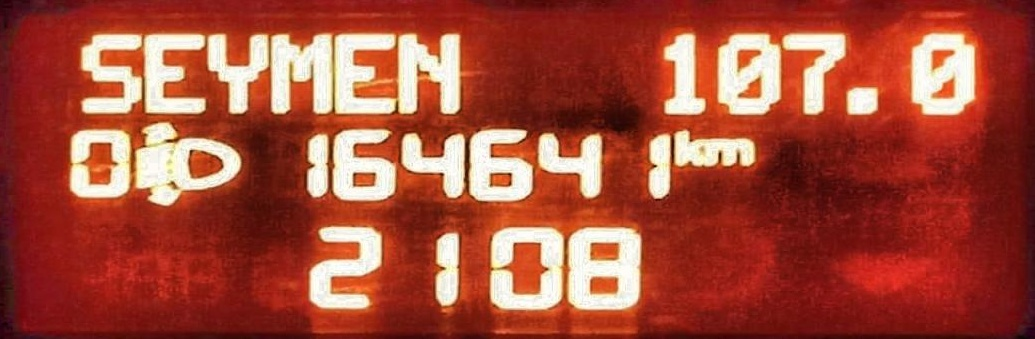-: (842, 80, 885, 123)
0: (482, 221, 565, 315), (908, 31, 987, 120), (713, 29, 784, 119), (60, 125, 131, 201)
1: (648, 30, 705, 121), (429, 223, 467, 312), (294, 127, 329, 206), (643, 129, 675, 204)
2: (307, 223, 381, 311)
4: (535, 124, 608, 202), (393, 128, 466, 199)
6: (469, 122, 534, 205), (334, 127, 396, 207)
7: (784, 28, 848, 113)
8: (565, 220, 645, 314)
X: (395, 28, 466, 116), (78, 29, 141, 116), (270, 28, 332, 115), (143, 28, 205, 115), (336, 28, 397, 115), (207, 29, 266, 114), (703, 135, 758, 168), (671, 127, 704, 168)
